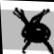not correct: (12, 5, 54, 54)
